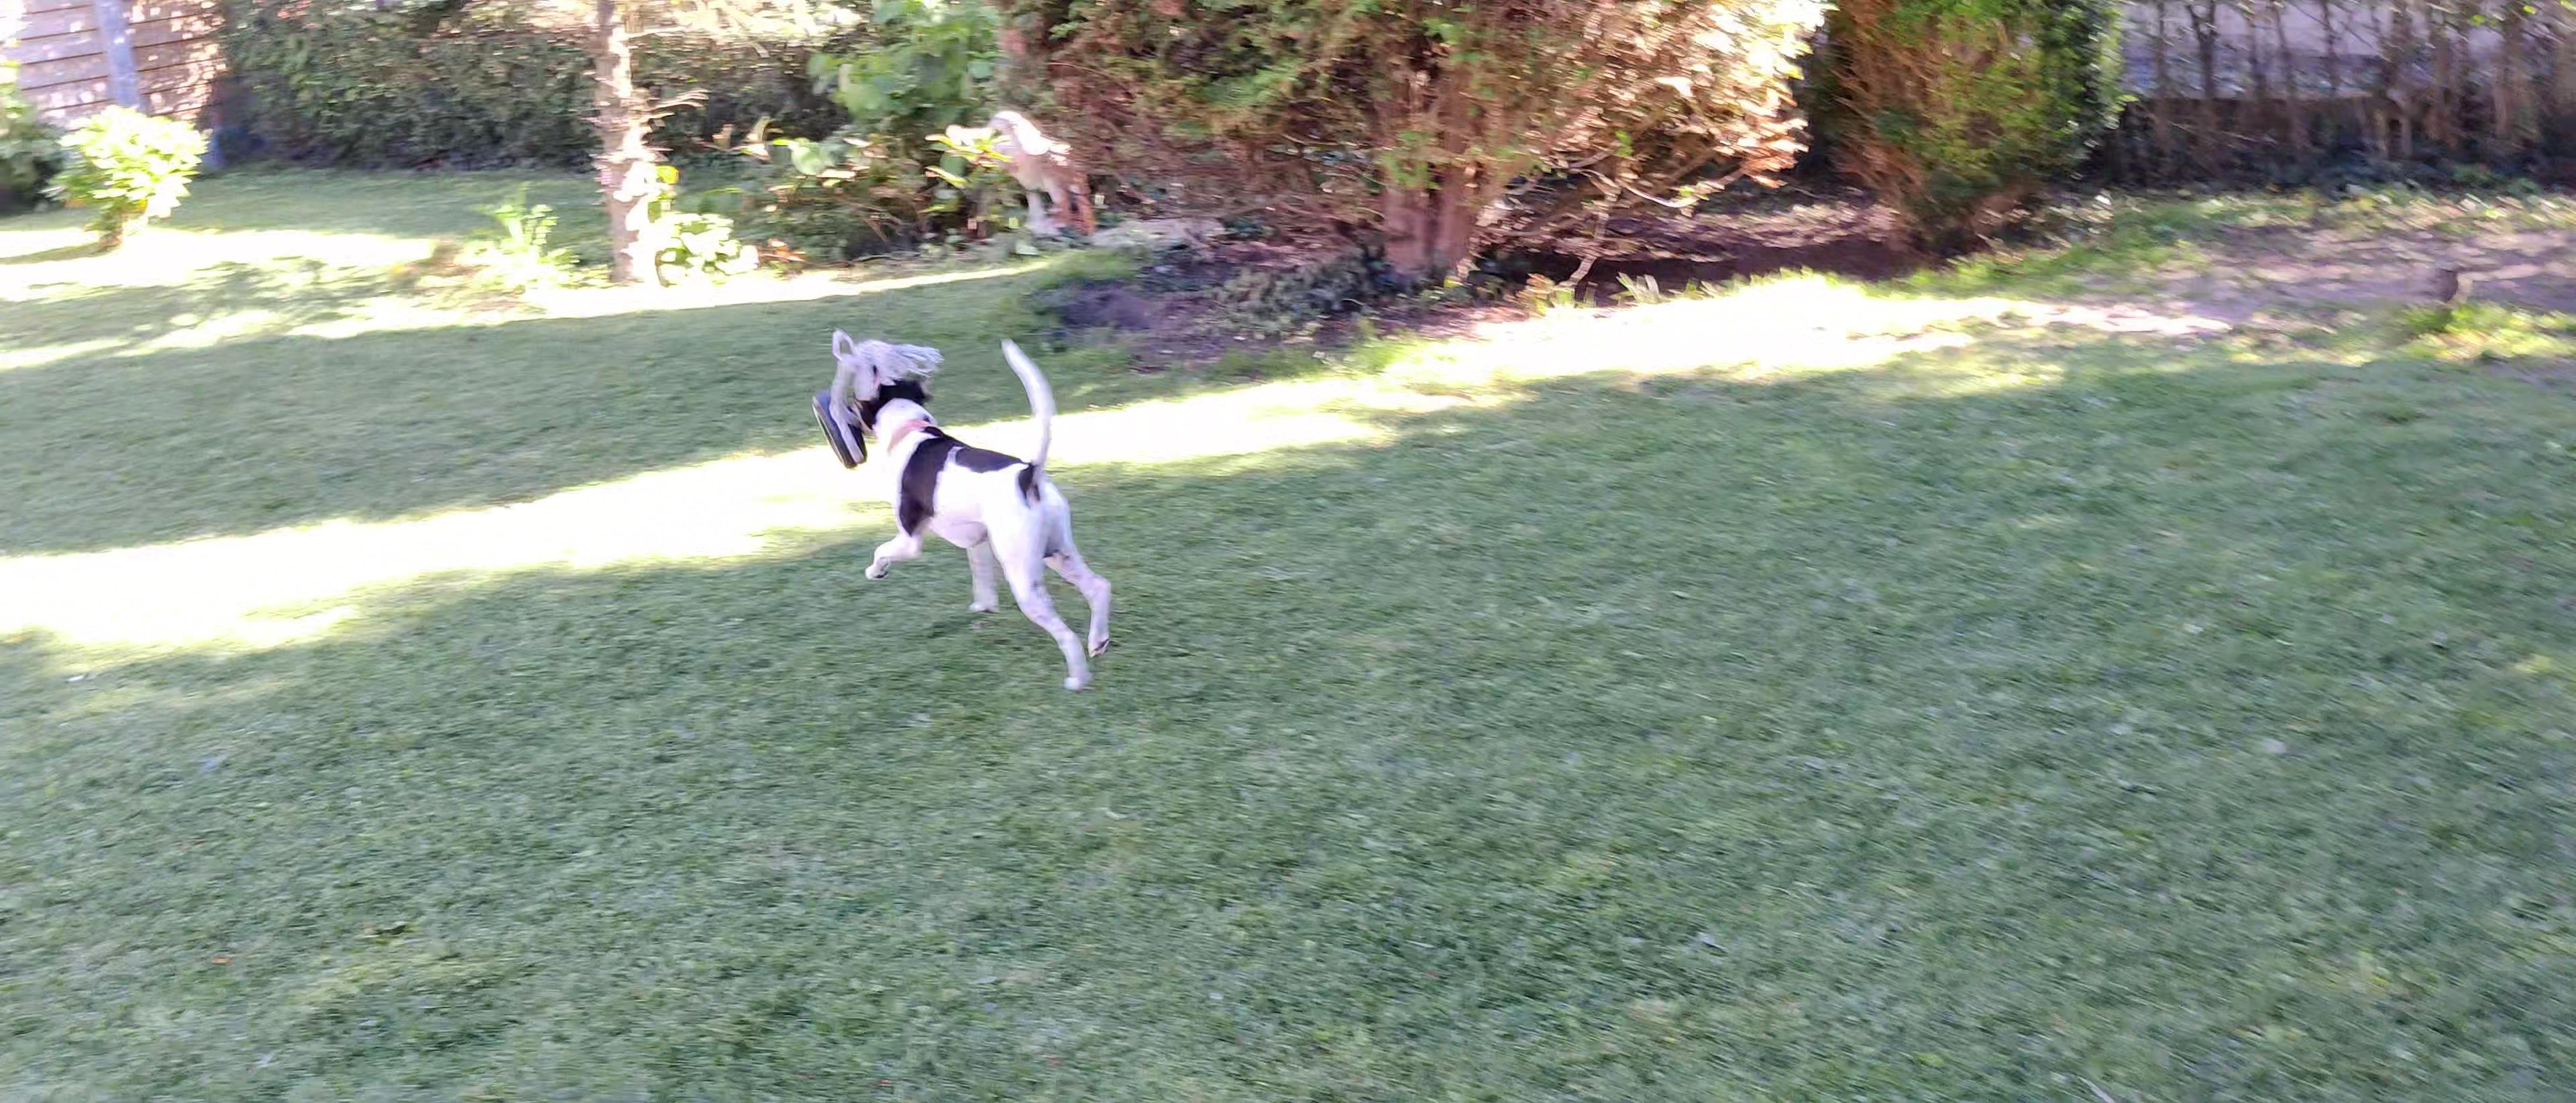Dog: (848, 332, 1153, 723)
